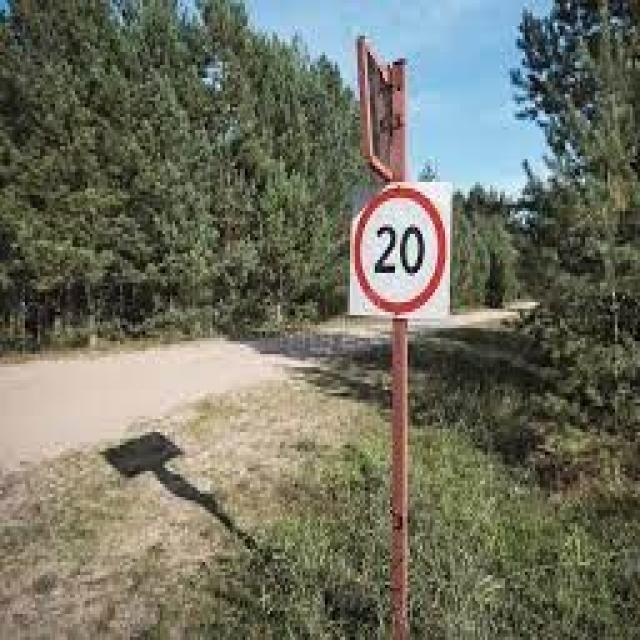speed_limit_20: (352, 186, 446, 309)
